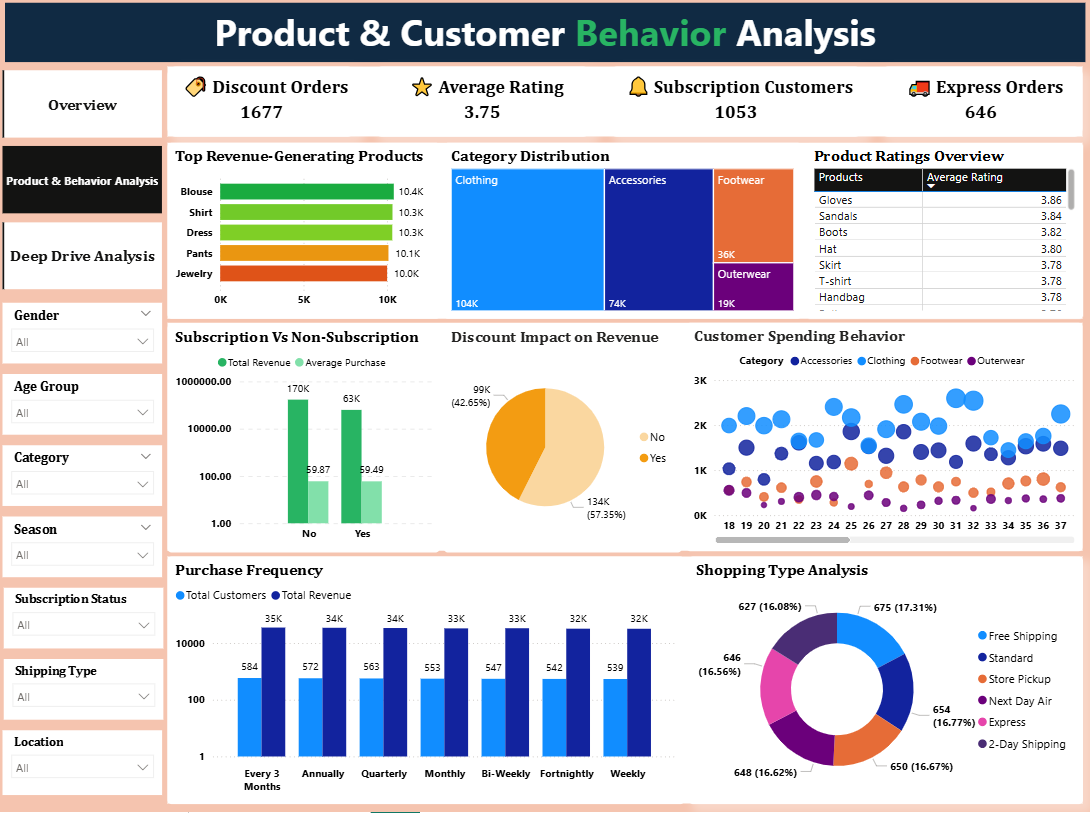

Layout of this report page (visuals, bound fields, positions):
{"tool":"powerbi","page":{"name":"Product & Behavior Analysis","canvas":[1280,960],"ordinal":1},"visuals":[{"type":"textbox","box":[6.5,9.7,1267,69.4],"z":0},{"type":"card","title":"🏷️ Discount Orders","fields":{"Values":["final_dashboard_data.Discount orders"]},"box":[196.9,85.5,221.1,82.3],"z":0,"group":"g4"},{"type":"card","title":"⭐ Average Rating","fields":{"Values":["final_dashboard_data.Average Rating"]},"box":[438.5,85.5,255,82.3],"z":1000,"group":"g4"},{"type":"slicer","fields":{"Values":["final_dashboard_data.season"]},"box":[3.2,612.7,187.2,71],"z":1000},{"type":"card","title":"🚚 Express Orders","fields":{"Values":["final_dashboard_data.Express orders"]},"box":[1033,85.5,237.3,82.3],"z":2000,"group":"g4"},{"type":"slicer","fields":{"Values":["final_dashboard_data.gender"]},"box":[3.2,361.5,187.2,71],"z":2000},{"type":"card","title":"🔔 Subscription Customers","fields":{"Values":["final_dashboard_data.Subscription Customers"]},"box":[713.9,85.5,298.6,82.3],"z":3000,"group":"g4"},{"type":"slicer","fields":{"Values":["final_dashboard_data.age_group"]},"box":[3.2,445.2,187.2,71],"z":3000},{"type":"clusteredColumnChart","title":"Subscription Vs Non-Subscription","fields":{"Category":["final_dashboard_data.subscription_status"],"Y":["final_dashboard_data.Total Revenue","final_dashboard_data.Average Purchase"]},"box":[196.9,385.7,319.6,267.9],"z":4000,"group":"g2"},{"type":"slicer","fields":{"Values":["final_dashboard_data.category"]},"box":[3.2,529,187.2,71],"z":4000},{"type":"donutChart","title":"Shopping Type Analysis","fields":{"Category":["final_dashboard_data.shipping_type"],"Y":["final_dashboard_data.Total Customers"]},"box":[807.7,659.7,462,290.3],"z":5000,"group":"g3"},{"type":"slicer","fields":{"Values":["final_dashboard_data.subscription_status"]},"box":[3.9,696.4,187.2,71],"z":5000},{"type":"pieChart","title":"Discount Impact on Revenue","fields":{"Category":["final_dashboard_data.discount_applied"],"Y":["final_dashboard_data.Total Revenue"]},"box":[521.3,385.7,279.2,267.9],"z":6000,"group":"g2"},{"type":"slicer","fields":{"Values":["final_dashboard_data.shipping_type"]},"box":[3.9,780.1,187.2,71],"z":6000},{"type":"pageNavigator","box":[3.2,88.8,187.2,259.9],"z":7000},{"type":"slicer","fields":{"Values":["final_dashboard_data.location"]},"box":[3.2,863.8,187.2,75.9],"z":8000},{"type":"group","id":"g1","title":"Group 1","box":[196.9,174.3,1073.3,206.6],"z":9000},{"type":"group","id":"g2","title":"Group 2","box":[196.9,385,1073.3,268.7],"z":10000},{"type":"group","id":"g3","title":"Group 3","box":[196.5,659.7,1073.2,290.3],"z":11000},{"type":"group","id":"g4","title":"Group 4","box":[196.9,85.5,1073.3,82.3],"z":12000},{"type":"clusteredBarChart","title":"Top Revenue-Generating Products","fields":{"Y":["final_dashboard_data.Total Revenue"],"Category":["final_dashboard_data.item_purchased"]},"box":[196.9,174.3,320,206],"z":15000,"group":"g1"},{"type":"treemap","title":"Category Distribution","fields":{"Group":["final_dashboard_data.category"],"Values":["final_dashboard_data.Total Revenue"]},"box":[521.3,174.3,419.6,206.6],"z":16000,"group":"g1"},{"type":"scatterChart","title":"Customer Spending Behavior","fields":{"Y":["Sum(final_dashboard_data.purchase_amount)"],"Size":["Sum(final_dashboard_data.previous_purchases)"],"Series":["final_dashboard_data.category"],"X":["final_dashboard_data.age"]},"box":[805.4,385,464.8,268],"z":17000,"group":"g2"},{"type":"clusteredColumnChart","title":"Purchase Frequency","fields":{"Y":["final_dashboard_data.Total Customers","final_dashboard_data.Total Revenue"],"Category":["final_dashboard_data.frequency_of_purchases"]},"box":[196.5,659.7,606.3,290.3],"z":18000,"group":"g3"},{"type":"tableEx","title":"Product Ratings Overview","fields":{"Values":["final_dashboard_data.item_purchased","final_dashboard_data.Average Rating"]},"box":[945.8,174.3,324.4,206.6],"z":19000,"group":"g1"}]}

Visuals, with their boxes in screenshot pixels (x1, y1, x2, y2), scaled from the page's 1280x960 canvas onto the 1090x813 screenshot:
textbox: region(6, 8, 1084, 67)
"🏷️ Discount Orders" card: region(168, 72, 356, 142)
"⭐ Average Rating" card: region(373, 72, 591, 142)
slicer - final_dashboard_data.season: region(3, 519, 162, 579)
"🚚 Express Orders" card: region(880, 72, 1082, 142)
slicer - final_dashboard_data.gender: region(3, 306, 162, 366)
"🔔 Subscription Customers" card: region(608, 72, 862, 142)
slicer - final_dashboard_data.age_group: region(3, 377, 162, 437)
"Subscription Vs Non-Subscription" clusteredColumnChart: region(168, 327, 440, 554)
slicer - final_dashboard_data.category: region(3, 448, 162, 508)
"Shopping Type Analysis" donutChart: region(688, 559, 1081, 805)
slicer - final_dashboard_data.subscription_status: region(3, 590, 163, 650)
"Discount Impact on Revenue" pieChart: region(444, 327, 682, 554)
slicer - final_dashboard_data.shipping_type: region(3, 661, 163, 721)
pageNavigator: region(3, 75, 162, 295)
slicer - final_dashboard_data.location: region(3, 732, 162, 796)
"Group 1" group: region(168, 148, 1082, 323)
"Group 2" group: region(168, 326, 1082, 554)
"Group 3" group: region(167, 559, 1081, 805)
"Group 4" group: region(168, 72, 1082, 142)
"Top Revenue-Generating Products" clusteredBarChart: region(168, 148, 440, 322)
"Category Distribution" treemap: region(444, 148, 801, 323)
"Customer Spending Behavior" scatterChart: region(686, 326, 1082, 553)
"Purchase Frequency" clusteredColumnChart: region(167, 559, 684, 805)
"Product Ratings Overview" tableEx: region(805, 148, 1082, 323)
